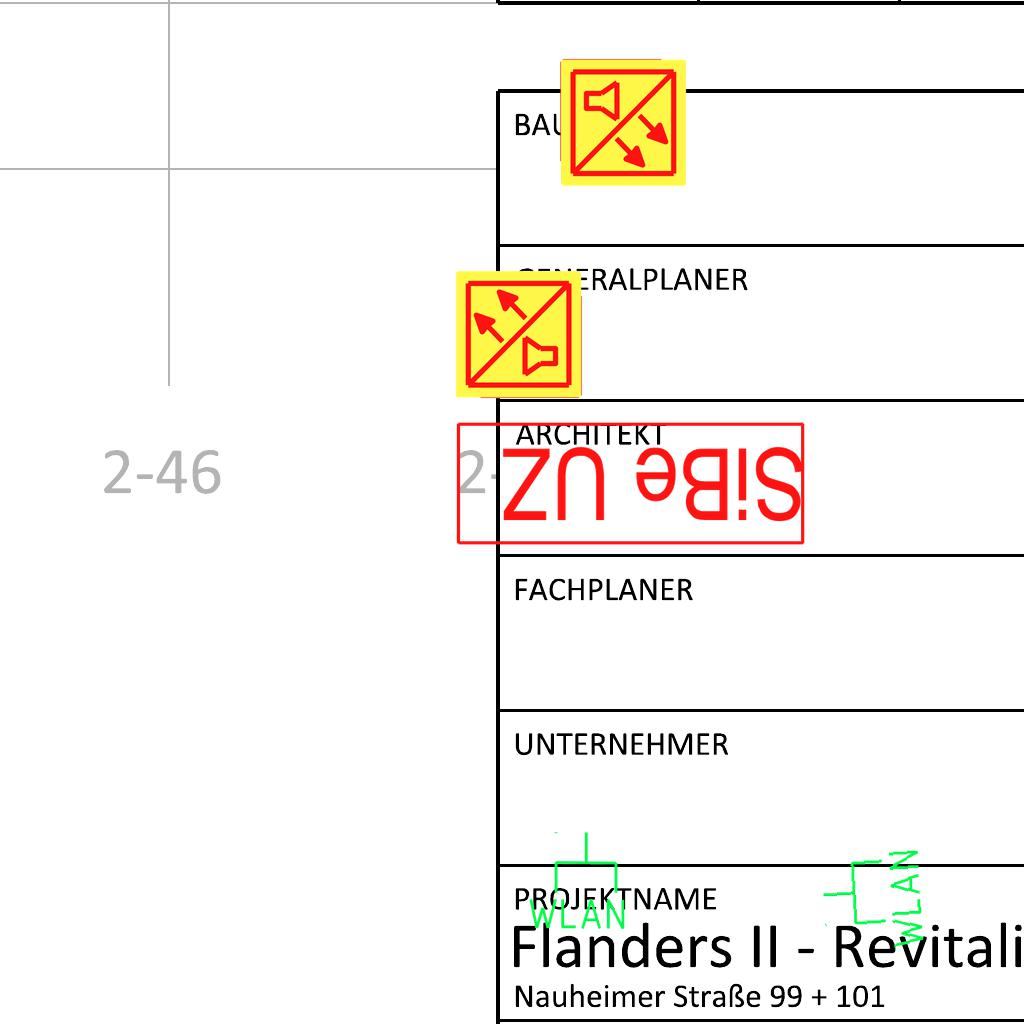OKW_Multisensormelder_(Kombination_optischer_Rauch-Kahlenmonoxid_Waerme-Melder): (557, 57, 689, 189), (453, 268, 585, 400)
WLAN: (817, 845, 929, 958), (524, 829, 629, 933)
Zentrale_Sicherheitsbeleuchtung: (451, 418, 808, 548)
